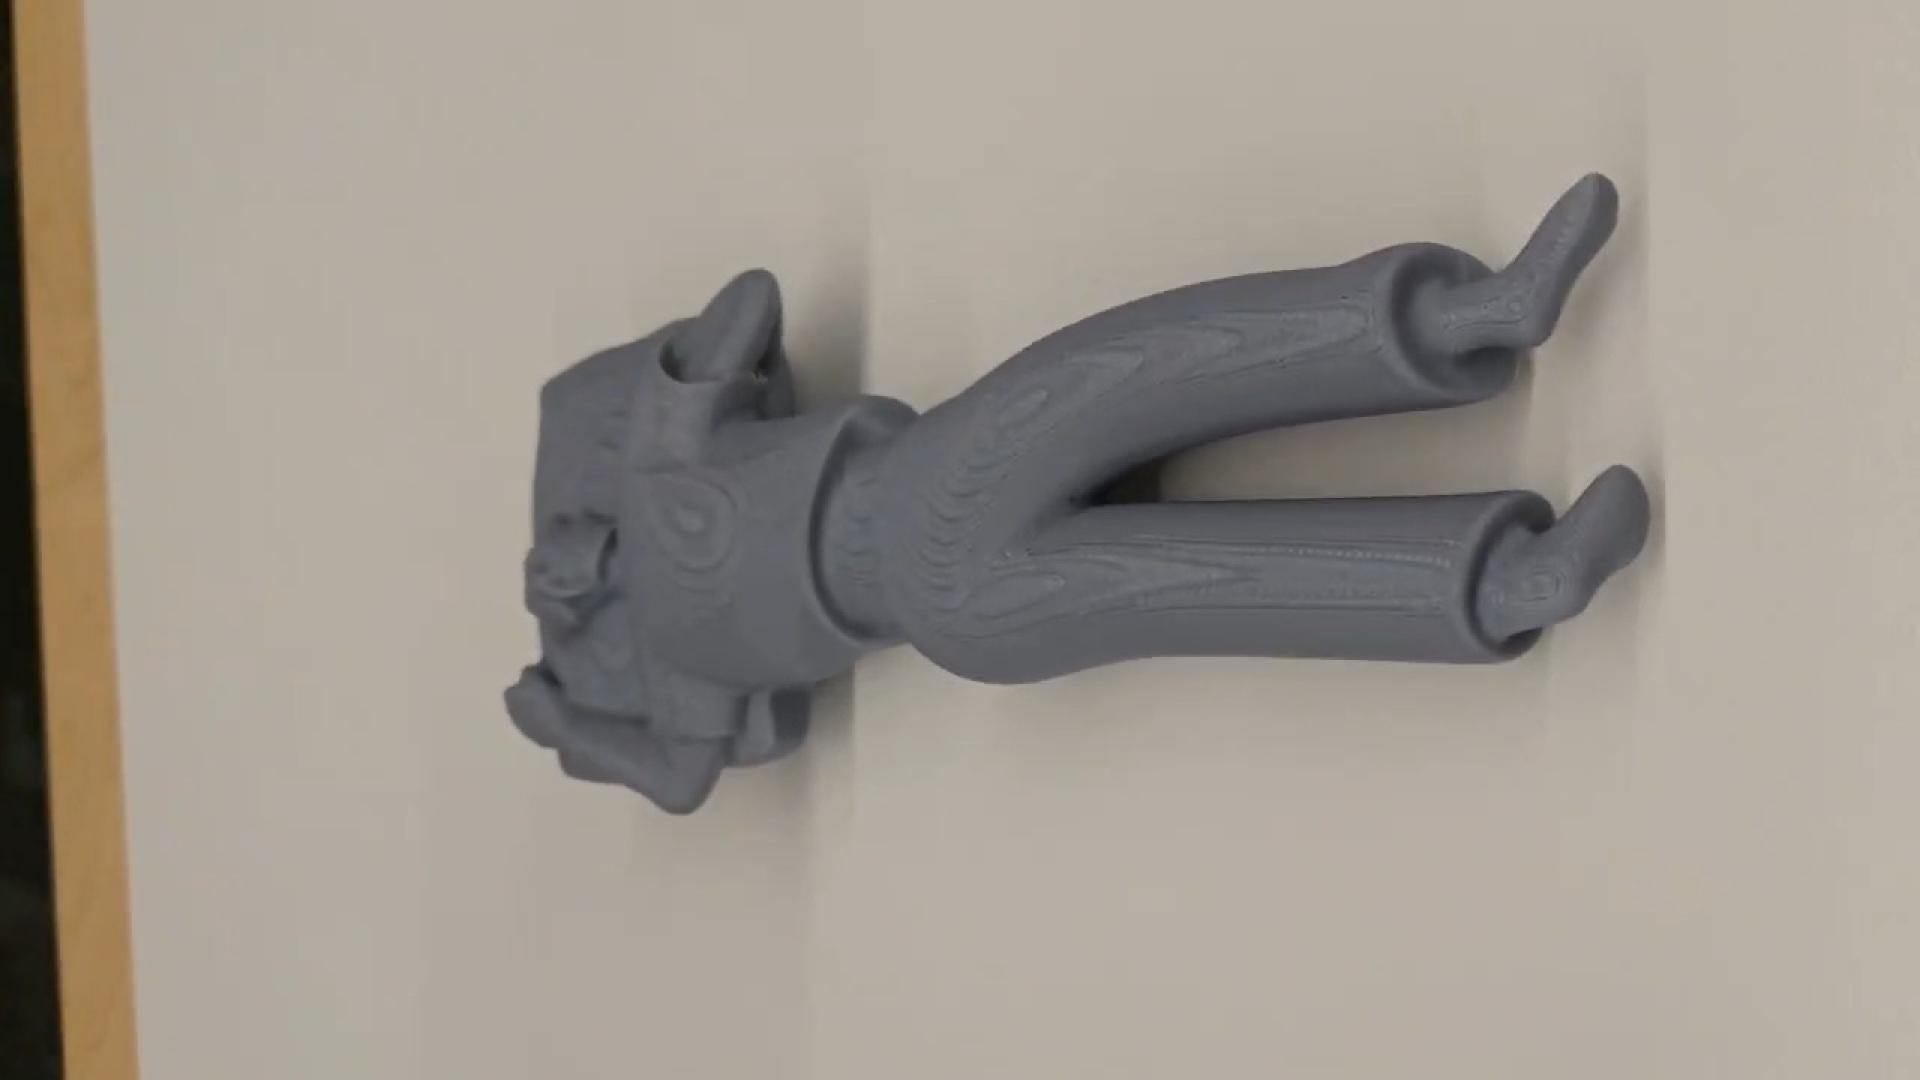Bad-style: (502, 171, 1659, 812)
